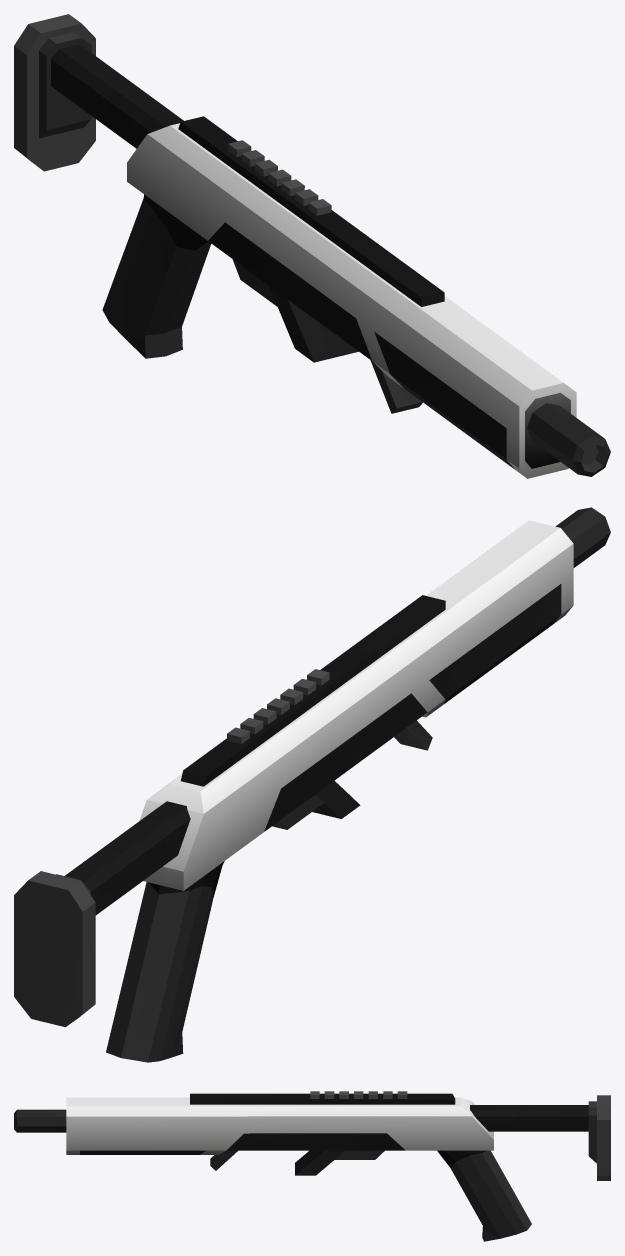
File: DMR_mesh.fbx
3 renders of one model, top to bottom at view 1: azimuth 30°, elevation 25°; view 2: azimuth 150°, elevation 25°; view 3: azimuth 270°, elevation 25°, orthographic. The views are drawn at different scales.
Parts seen in each view (by area): view 1: DMR_mesh; view 2: DMR_mesh; view 3: DMR_mesh.
Boxes of the visible parts, x1,y1,x2,y2 form: DMR_mesh: (14,14,610,478); DMR_mesh: (14,507,610,1062); DMR_mesh: (14,1091,610,1241).
Bounding box in the file's own units: 4.17 × 15.27 × 57.25.
